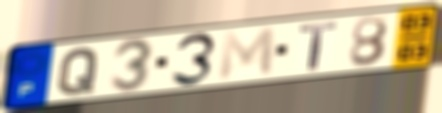3: (165, 31, 221, 88), (108, 36, 156, 96)
8: (347, 15, 390, 68)
M: (217, 25, 277, 83)
Q: (55, 46, 103, 97)
T: (298, 20, 340, 72)
